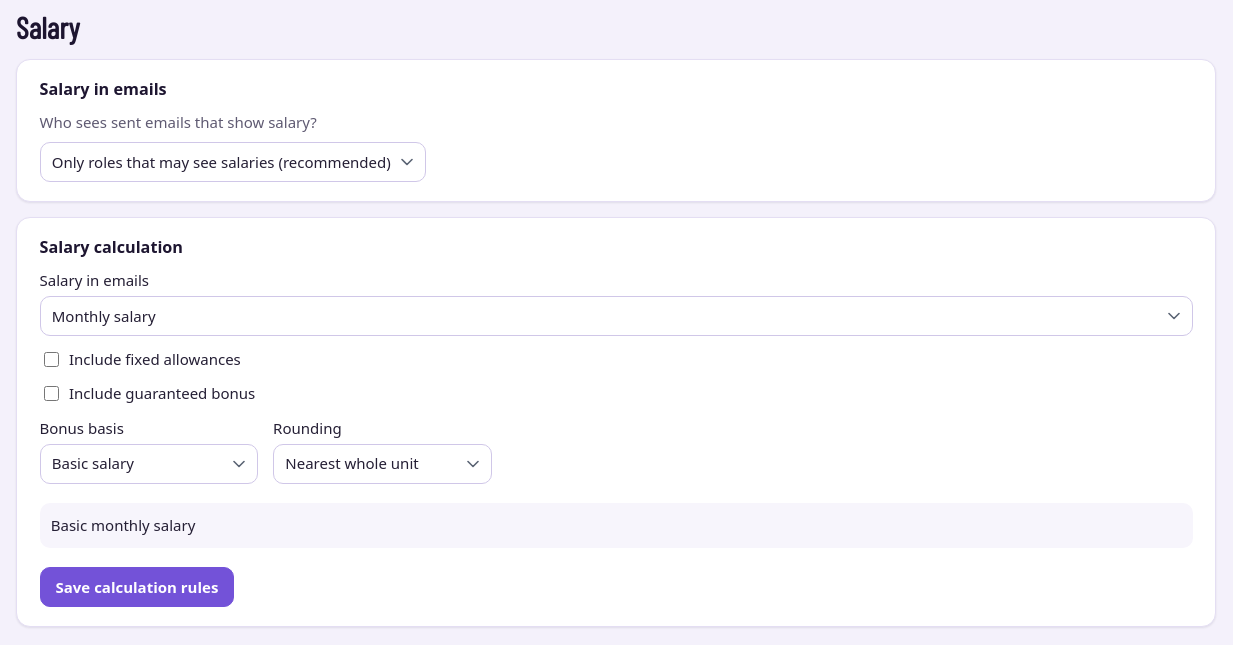
settings › chooses who sees emails that show salary
Select "Everyone who may read emails" in the dropdown named "Who sees emails that show salary". click: (233, 162)
box: [40,142,426,182]
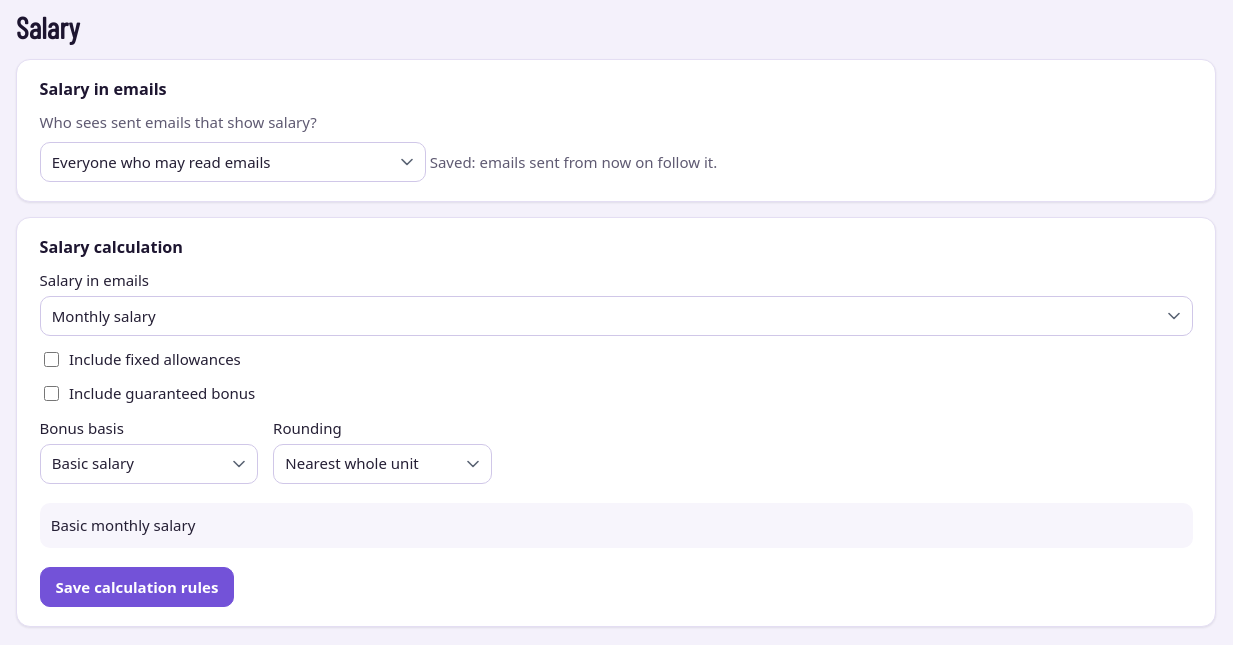
Now the text "Saved: emails sent from now on follow it." is shown, box [426,152,717,172]
